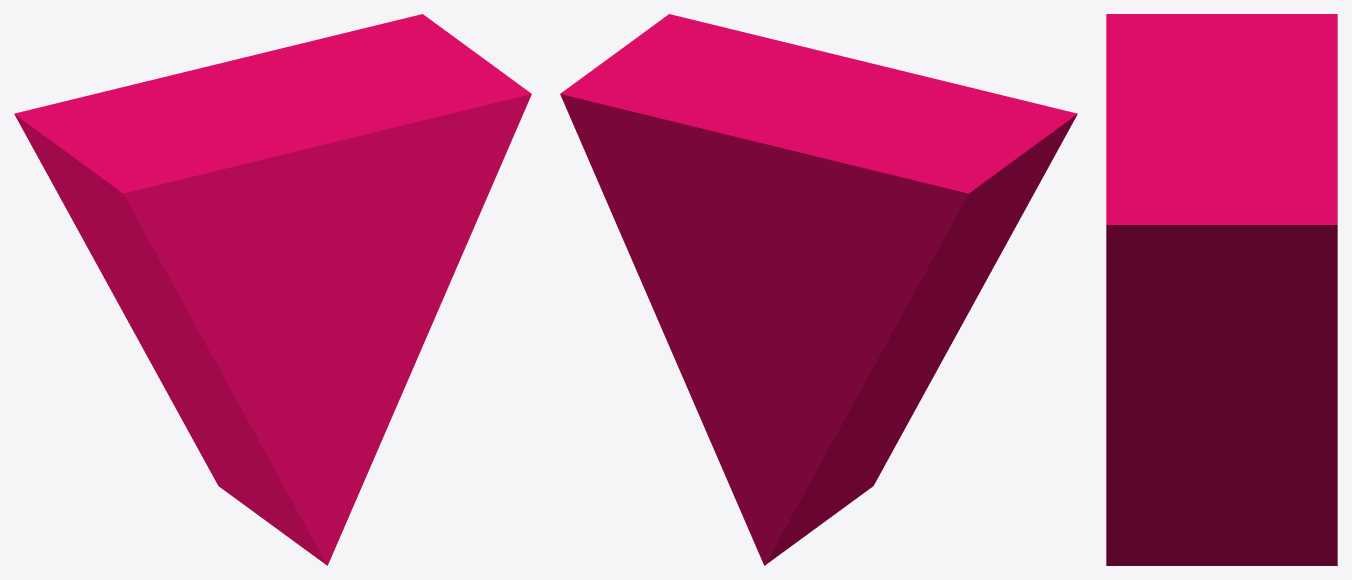
Rendered from down.FBX.
The picture shows the model from 3 angles, left to right: view 1: azimuth 30°, elevation 25°; view 2: azimuth 150°, elevation 25°; view 3: azimuth 270°, elevation 25°; orthographic projection. The views are drawn at different scales.
Visible parts, largest first — view 1: Text006; view 2: Text006; view 3: Text006.
Part boxes in pixels (bbox=[...]): Text006: bbox=[14, 14, 531, 565]; Text006: bbox=[560, 14, 1077, 565]; Text006: bbox=[1106, 14, 1337, 565].
Bounding box in the file's own units: 64.81 × 63.98 × 30.
